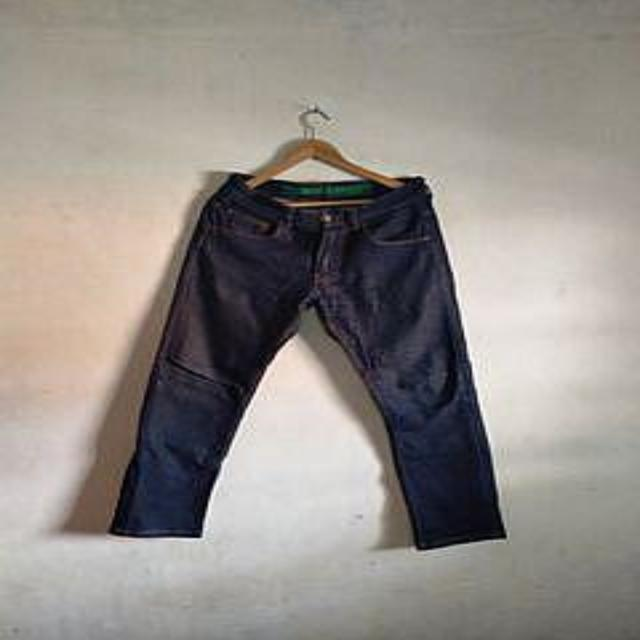TROUSER: (101, 161, 525, 555)
